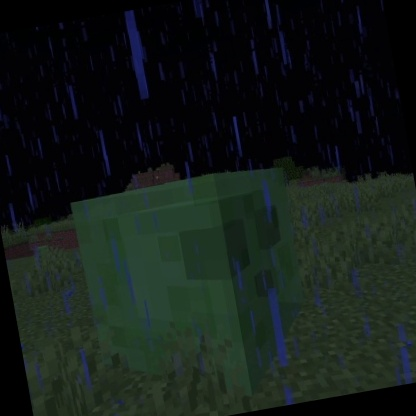slime: (62, 156, 328, 416)
